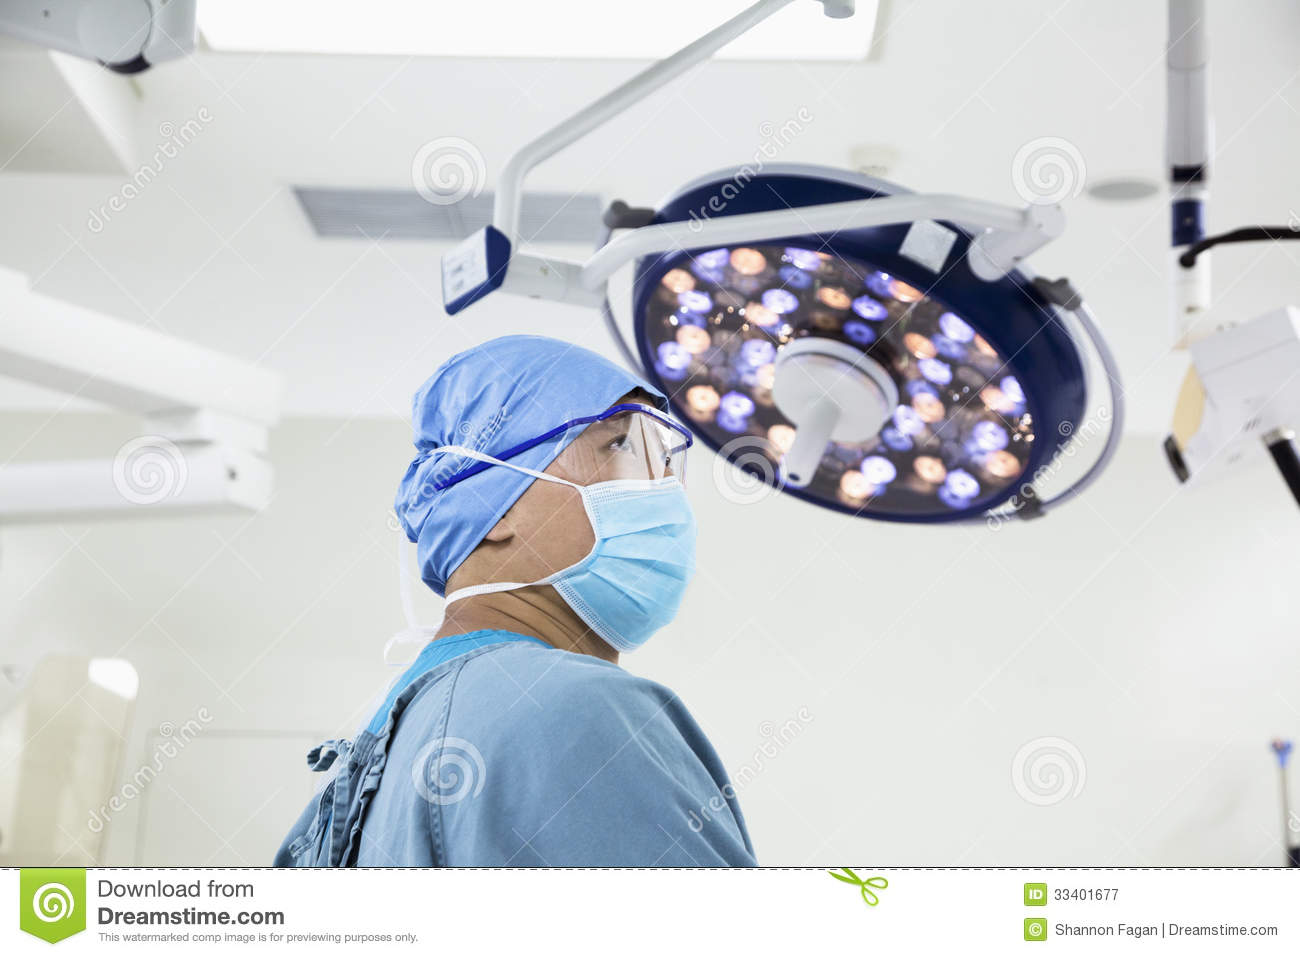mask: (570, 482, 708, 632)
